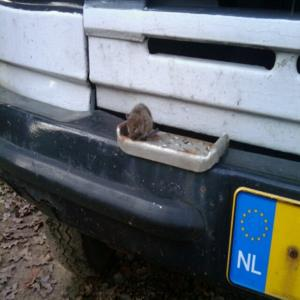Vehicle-registration-plate: (227, 186, 300, 300)
